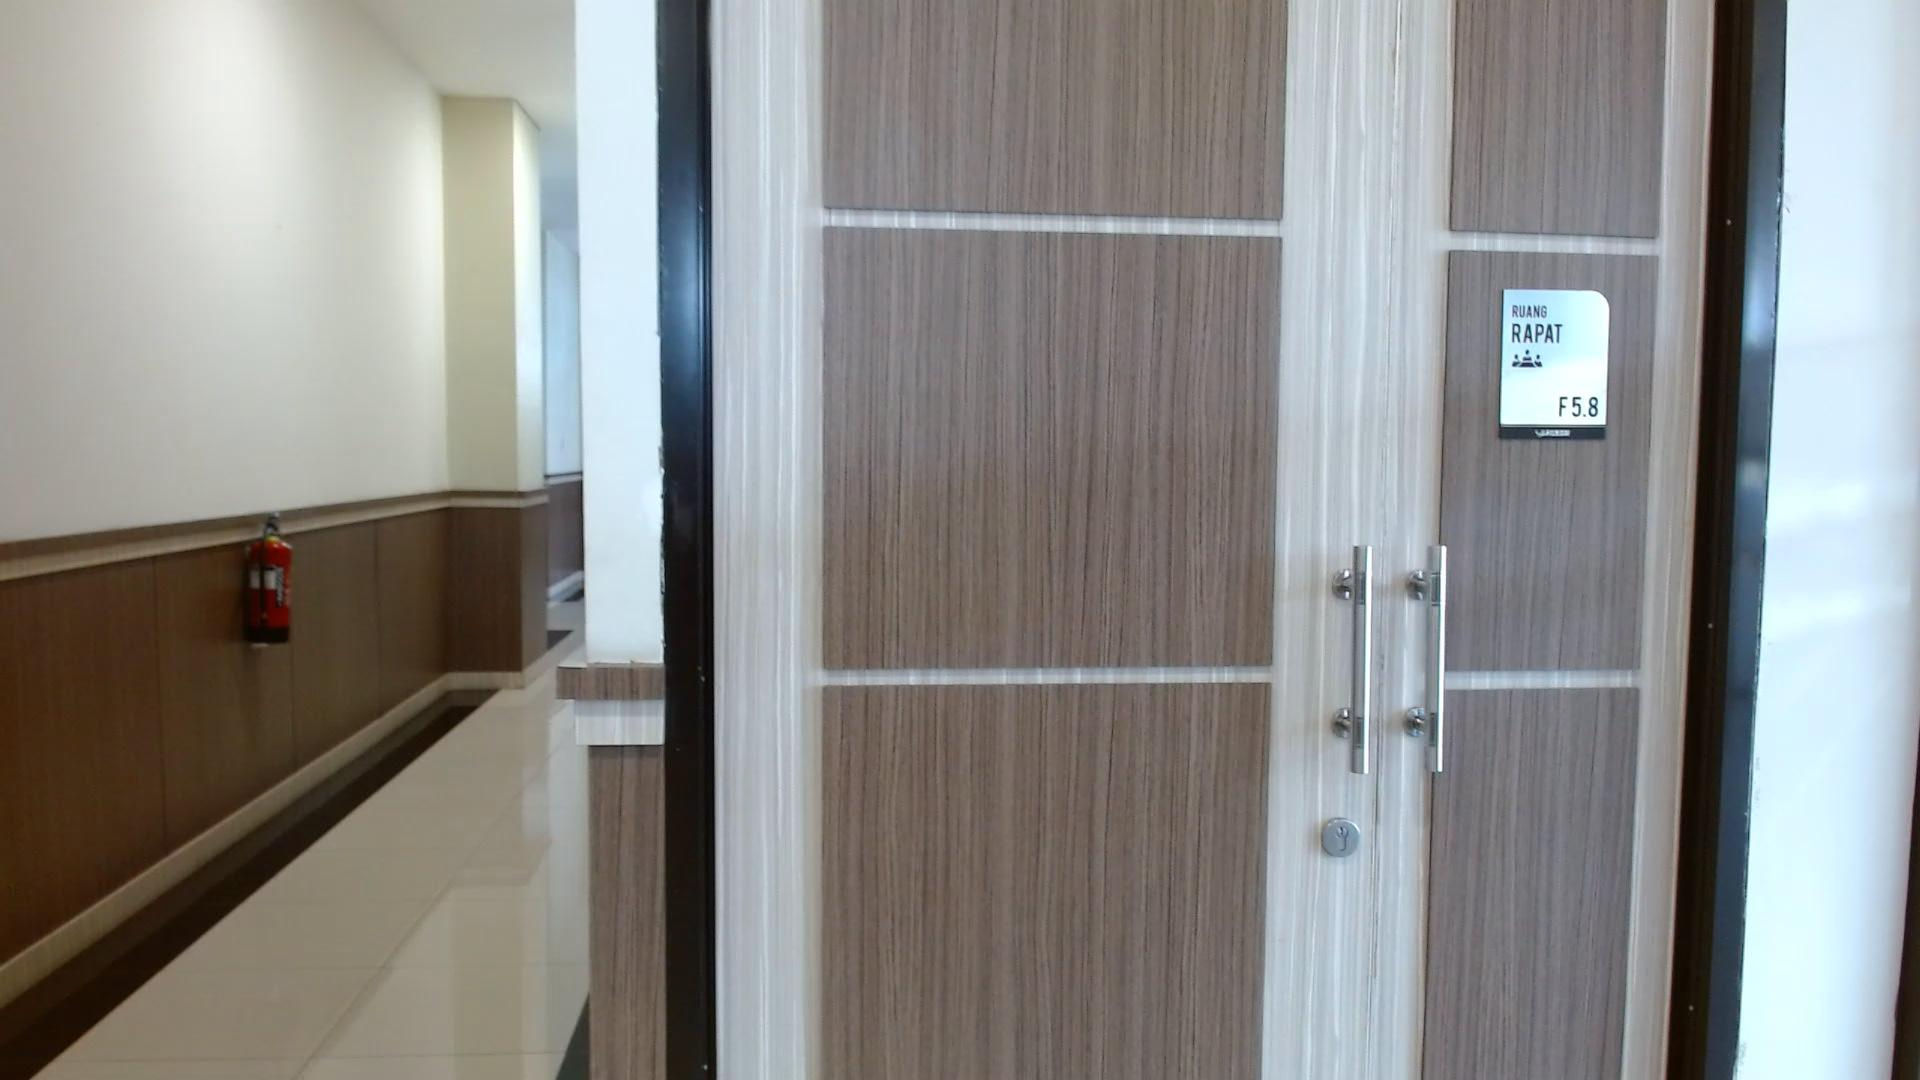plate: (1498, 289, 1611, 440)
